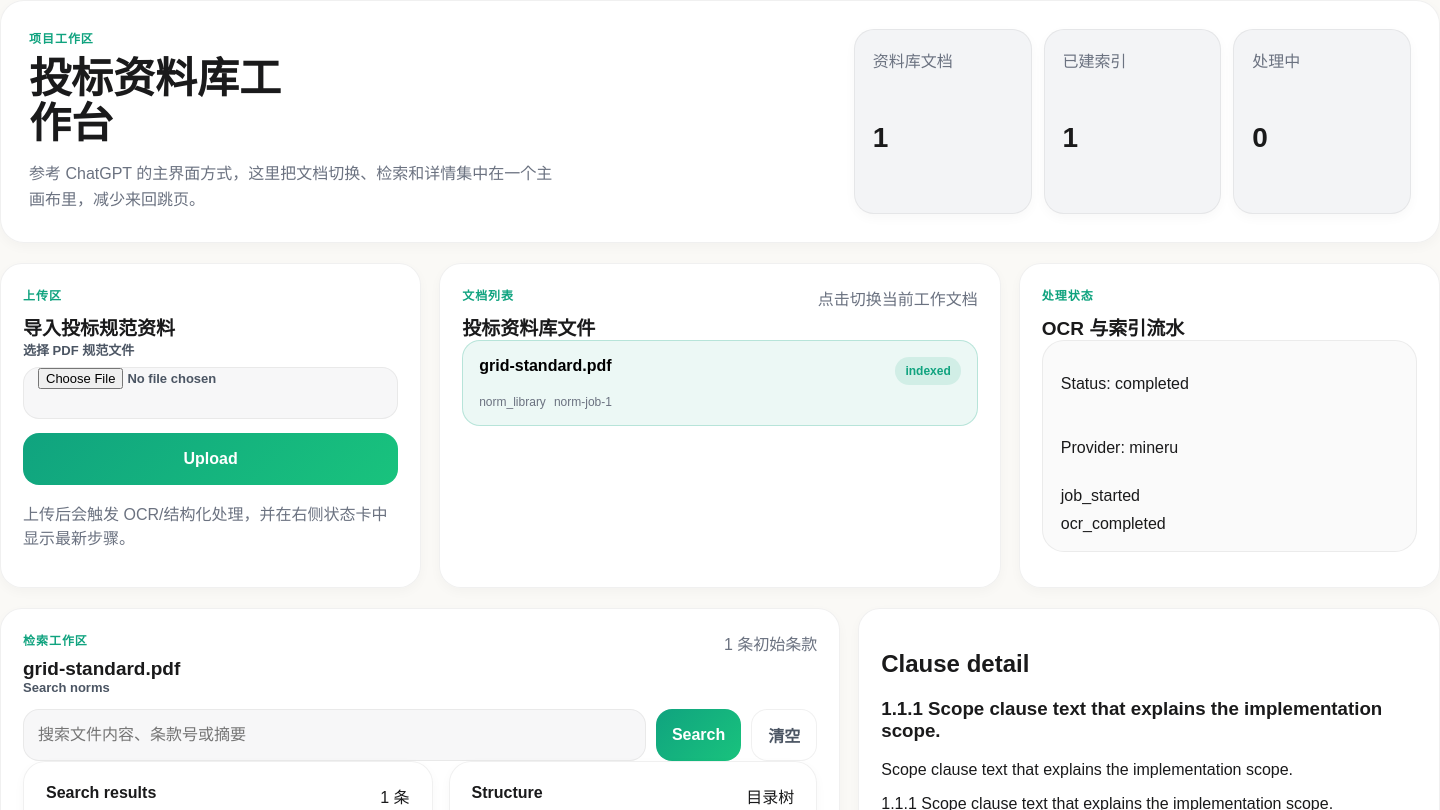
Test: NormLibraryPage › shows a recoverable error when norm search fails
Step 1. Type "scope" into the field labelled "Search norms" → (334, 734), box x1=23 y1=708 x2=646 y2=760
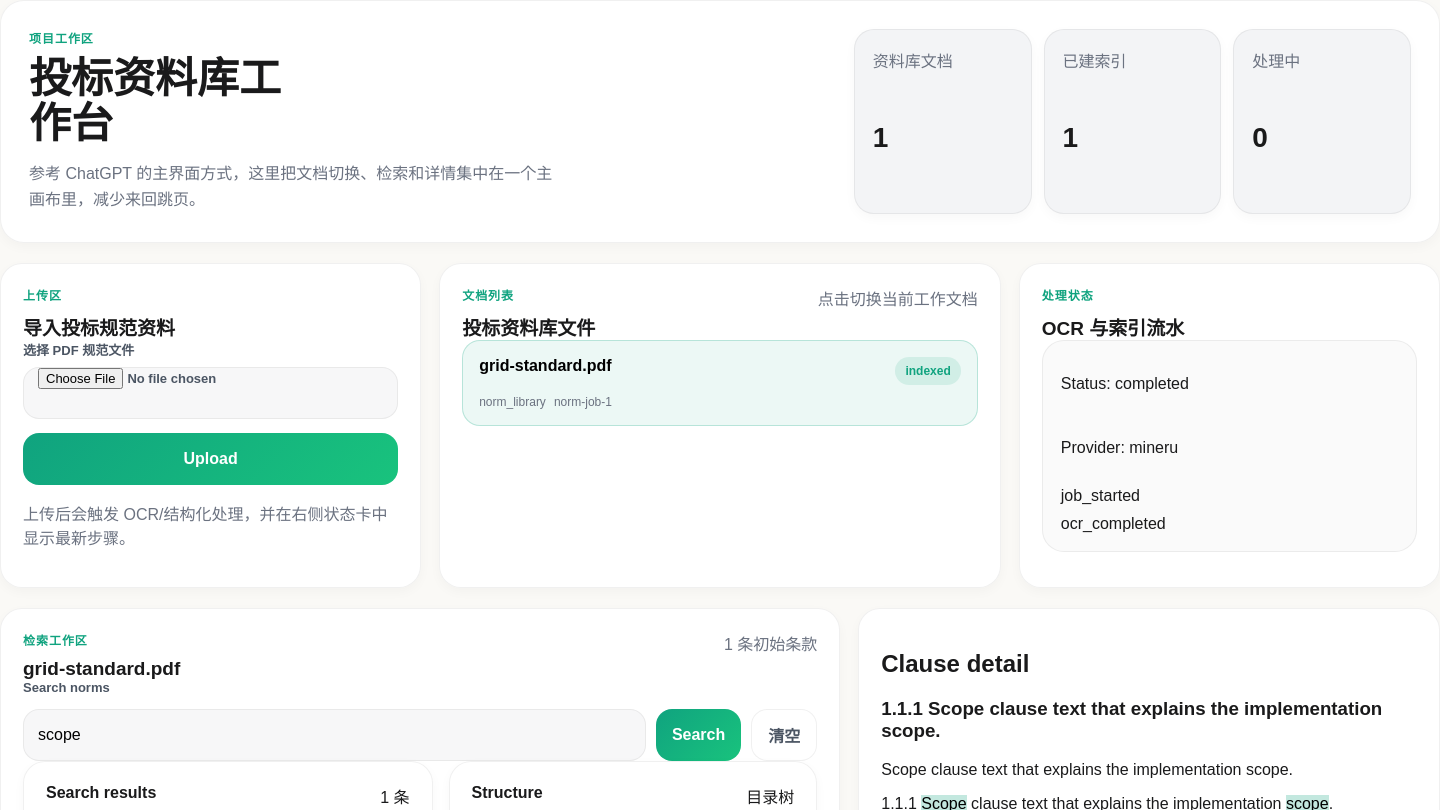
Step 2. Click the button "Search" → click(699, 734), box x1=656 y1=708 x2=741 y2=760
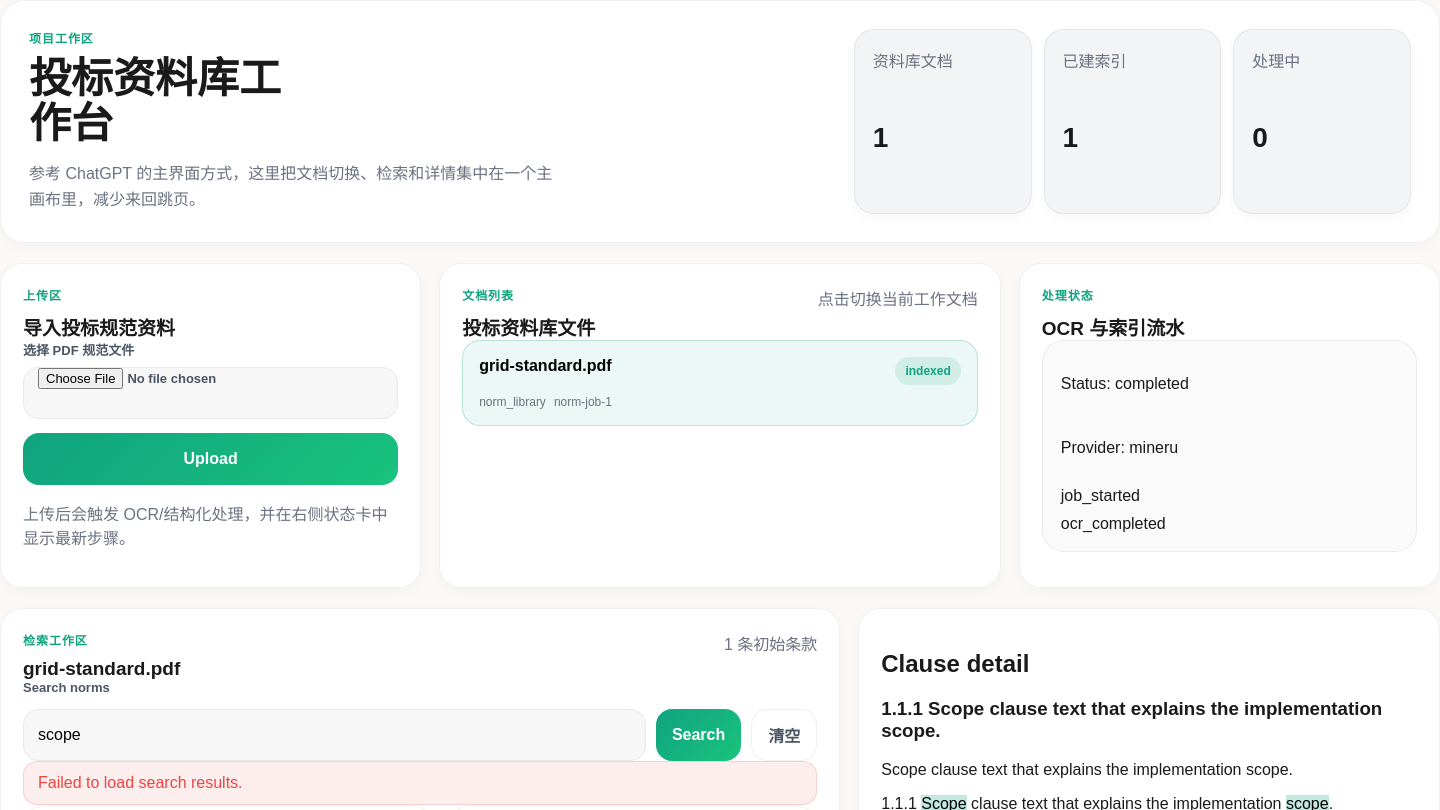
Expected: the text "Failed to load search results." is shown, x1=23 y1=760 x2=817 y2=804
